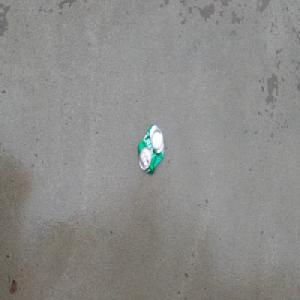SodaCan: (136, 122, 165, 176)
